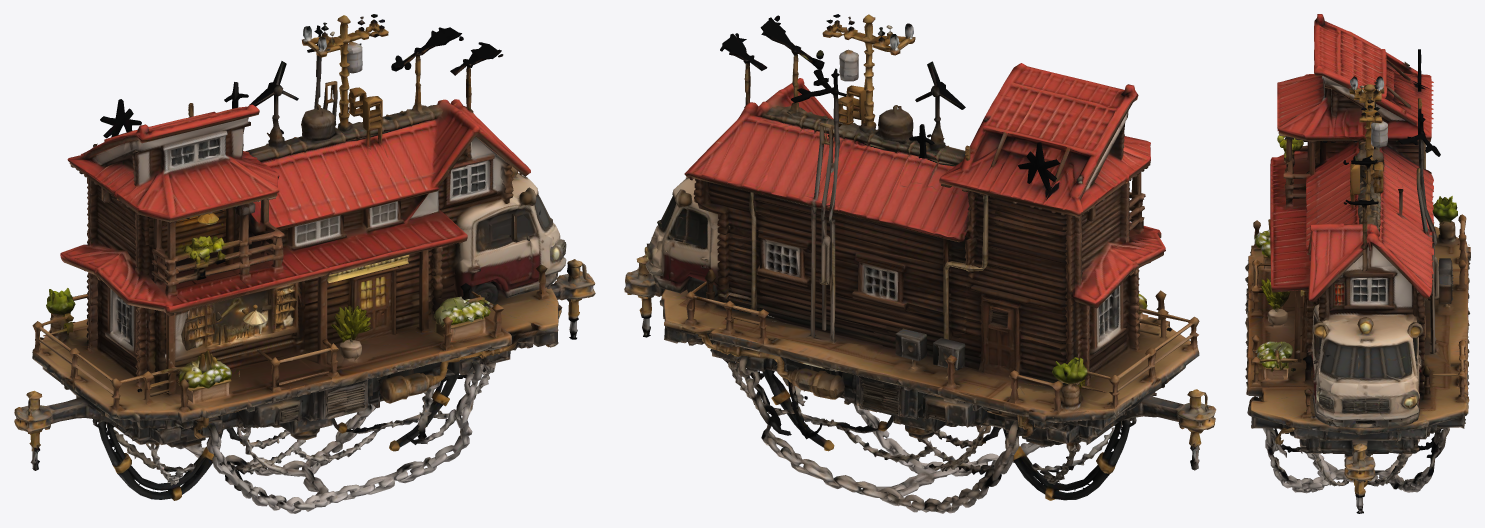
3 renders of one model, left to right at view 1: azimuth 30°, elevation 25°; view 2: azimuth 150°, elevation 25°; view 3: azimuth 270°, elevation 25°, orthographic. The views are drawn at different scales.
Parts seen in each view (by area): view 1: geometry_0; view 2: geometry_0; view 3: geometry_0.
Part boxes in pixels (x1,y1,x2,y2): geometry_0: (14, 14, 595, 513); geometry_0: (624, 14, 1216, 513); geometry_0: (1245, 14, 1470, 513).
Size of the model in its own units: 0.9998 by 0.773 by 0.3828.
Materials: 1 (1 with a texture image).
